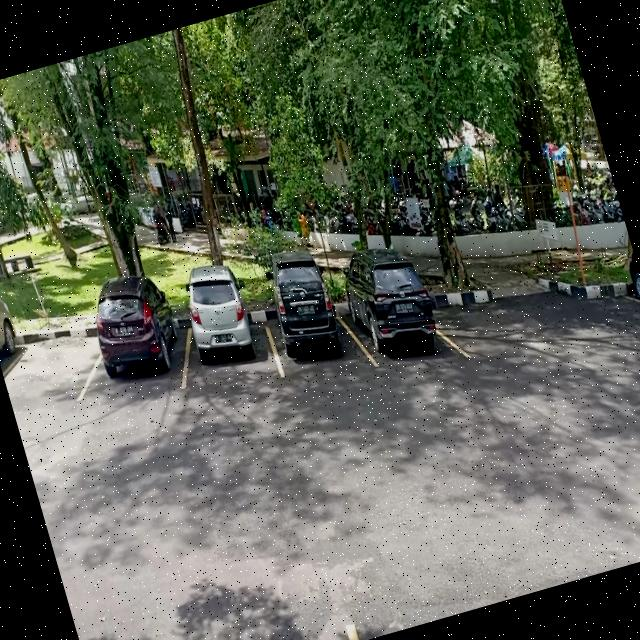empty: (0, 320, 105, 419)
occupied: (78, 293, 198, 410), (338, 258, 456, 374), (174, 286, 284, 399), (257, 274, 357, 376)
